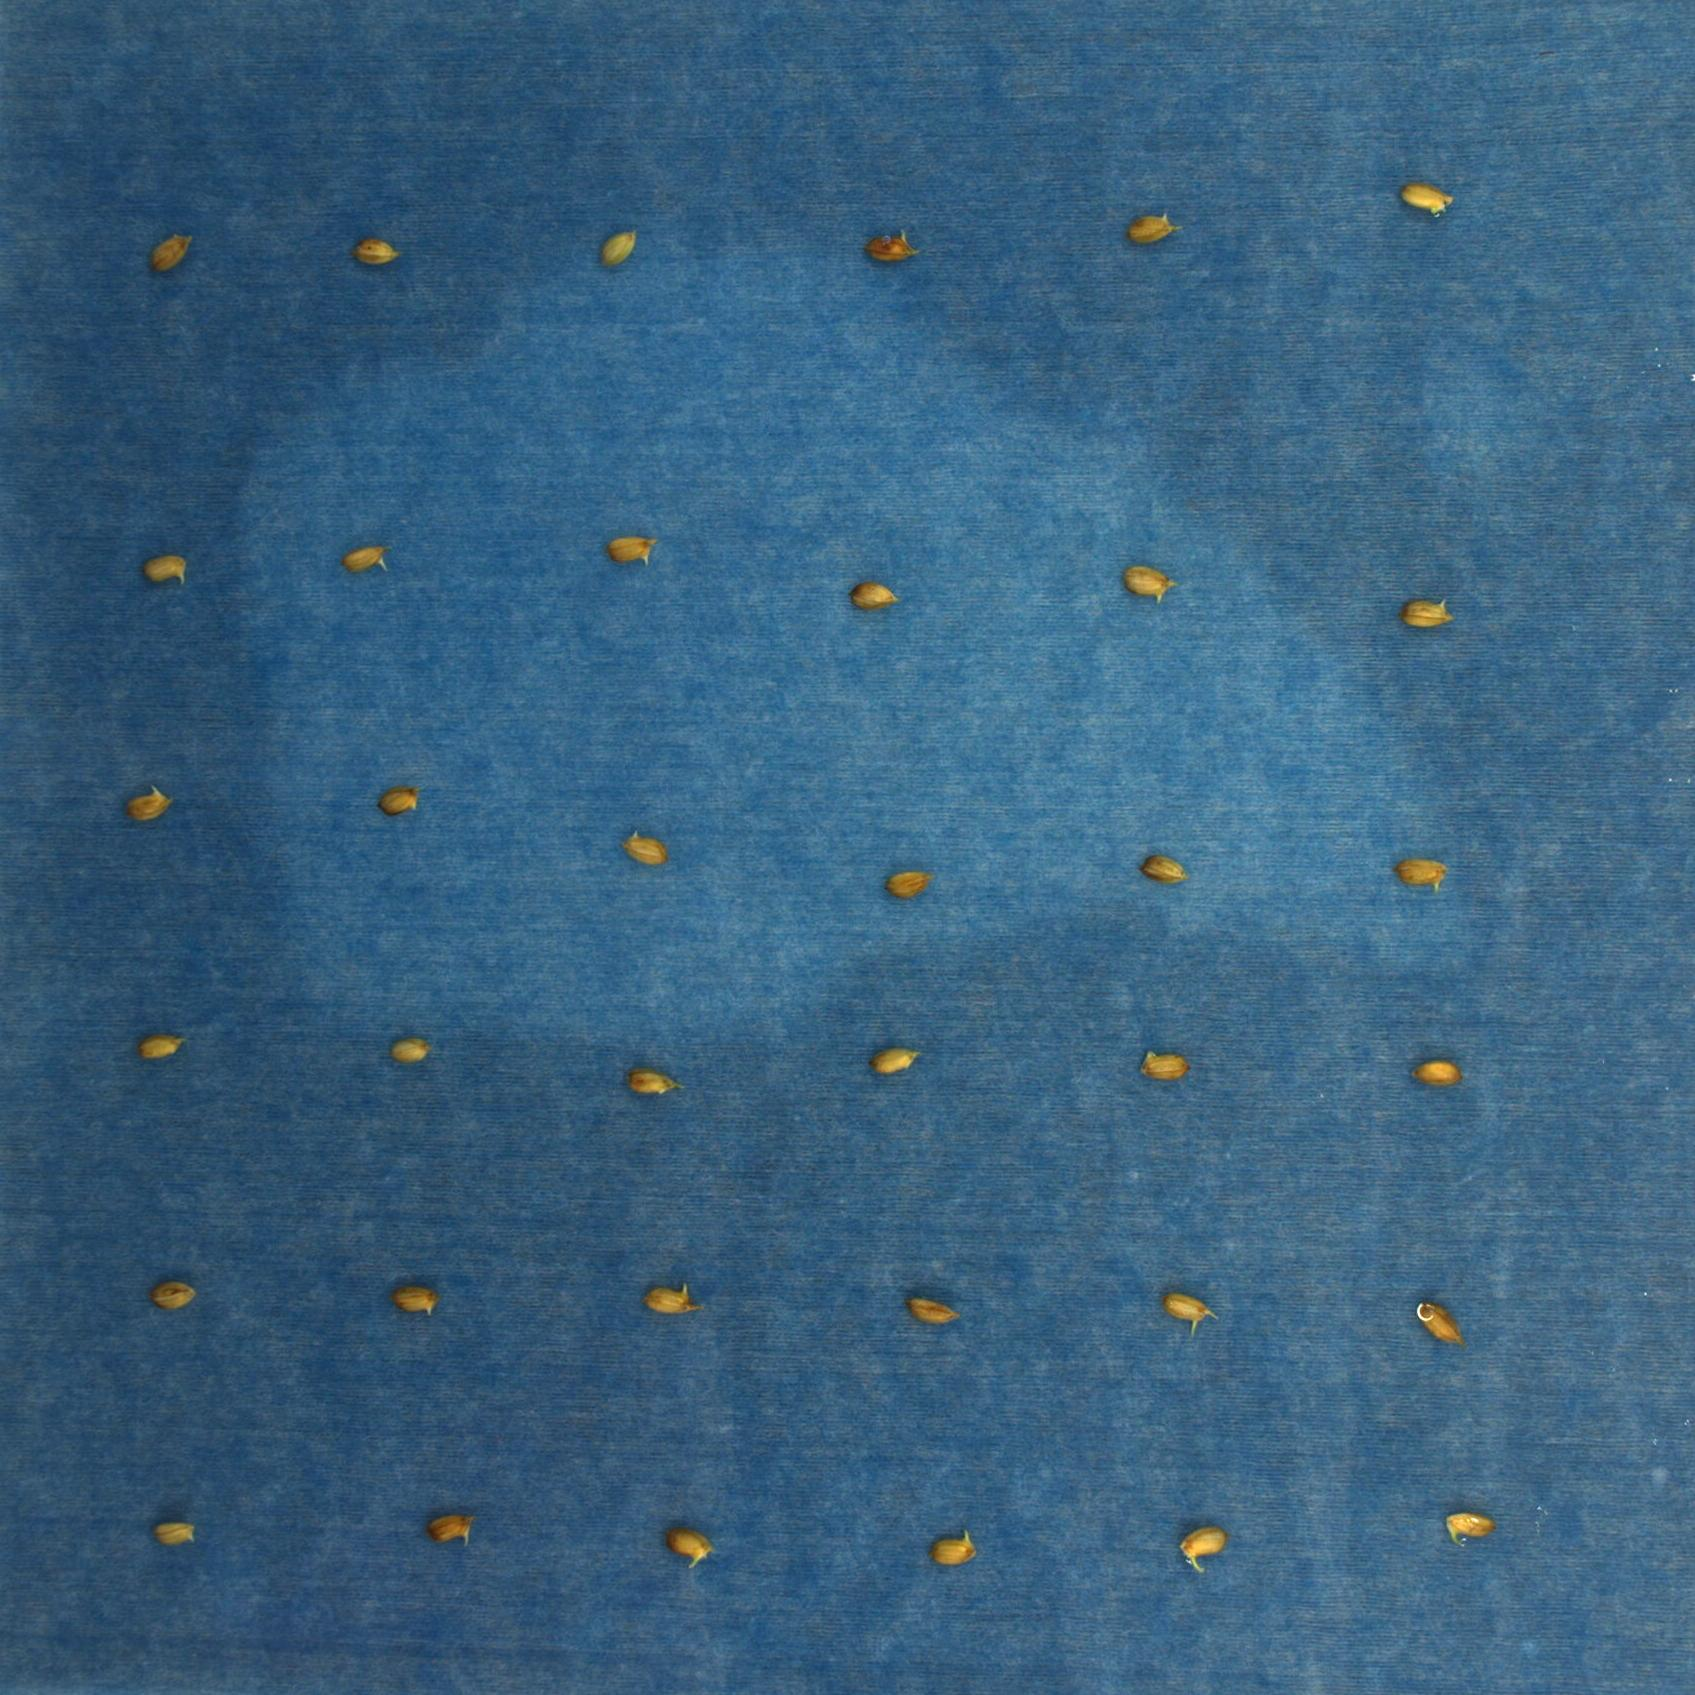not sprout: (1392, 854, 1451, 893), (1114, 567, 1180, 601), (1166, 1291, 1217, 1333), (1416, 1302, 1464, 1346), (640, 1284, 705, 1315), (664, 1530, 716, 1569), (151, 231, 199, 272), (1440, 1510, 1495, 1546), (927, 1527, 976, 1566), (1397, 185, 1454, 217), (910, 1290, 959, 1327), (865, 233, 920, 265), (428, 1513, 478, 1548), (605, 534, 657, 567), (871, 1046, 924, 1077), (127, 785, 174, 820), (886, 869, 938, 900), (341, 542, 390, 574), (1125, 213, 1181, 241), (626, 1065, 678, 1094), (1405, 598, 1454, 629), (147, 1284, 199, 1313), (626, 830, 667, 866), (1142, 854, 1191, 885), (390, 1287, 438, 1318), (602, 228, 641, 265), (1138, 1051, 1186, 1080), (144, 553, 188, 585), (852, 584, 903, 608), (138, 1032, 188, 1057), (383, 1037, 430, 1062), (154, 1520, 199, 1544), (1414, 1062, 1465, 1083), (355, 244, 400, 267), (376, 789, 418, 813)
sprout: (1180, 1523, 1226, 1572)
